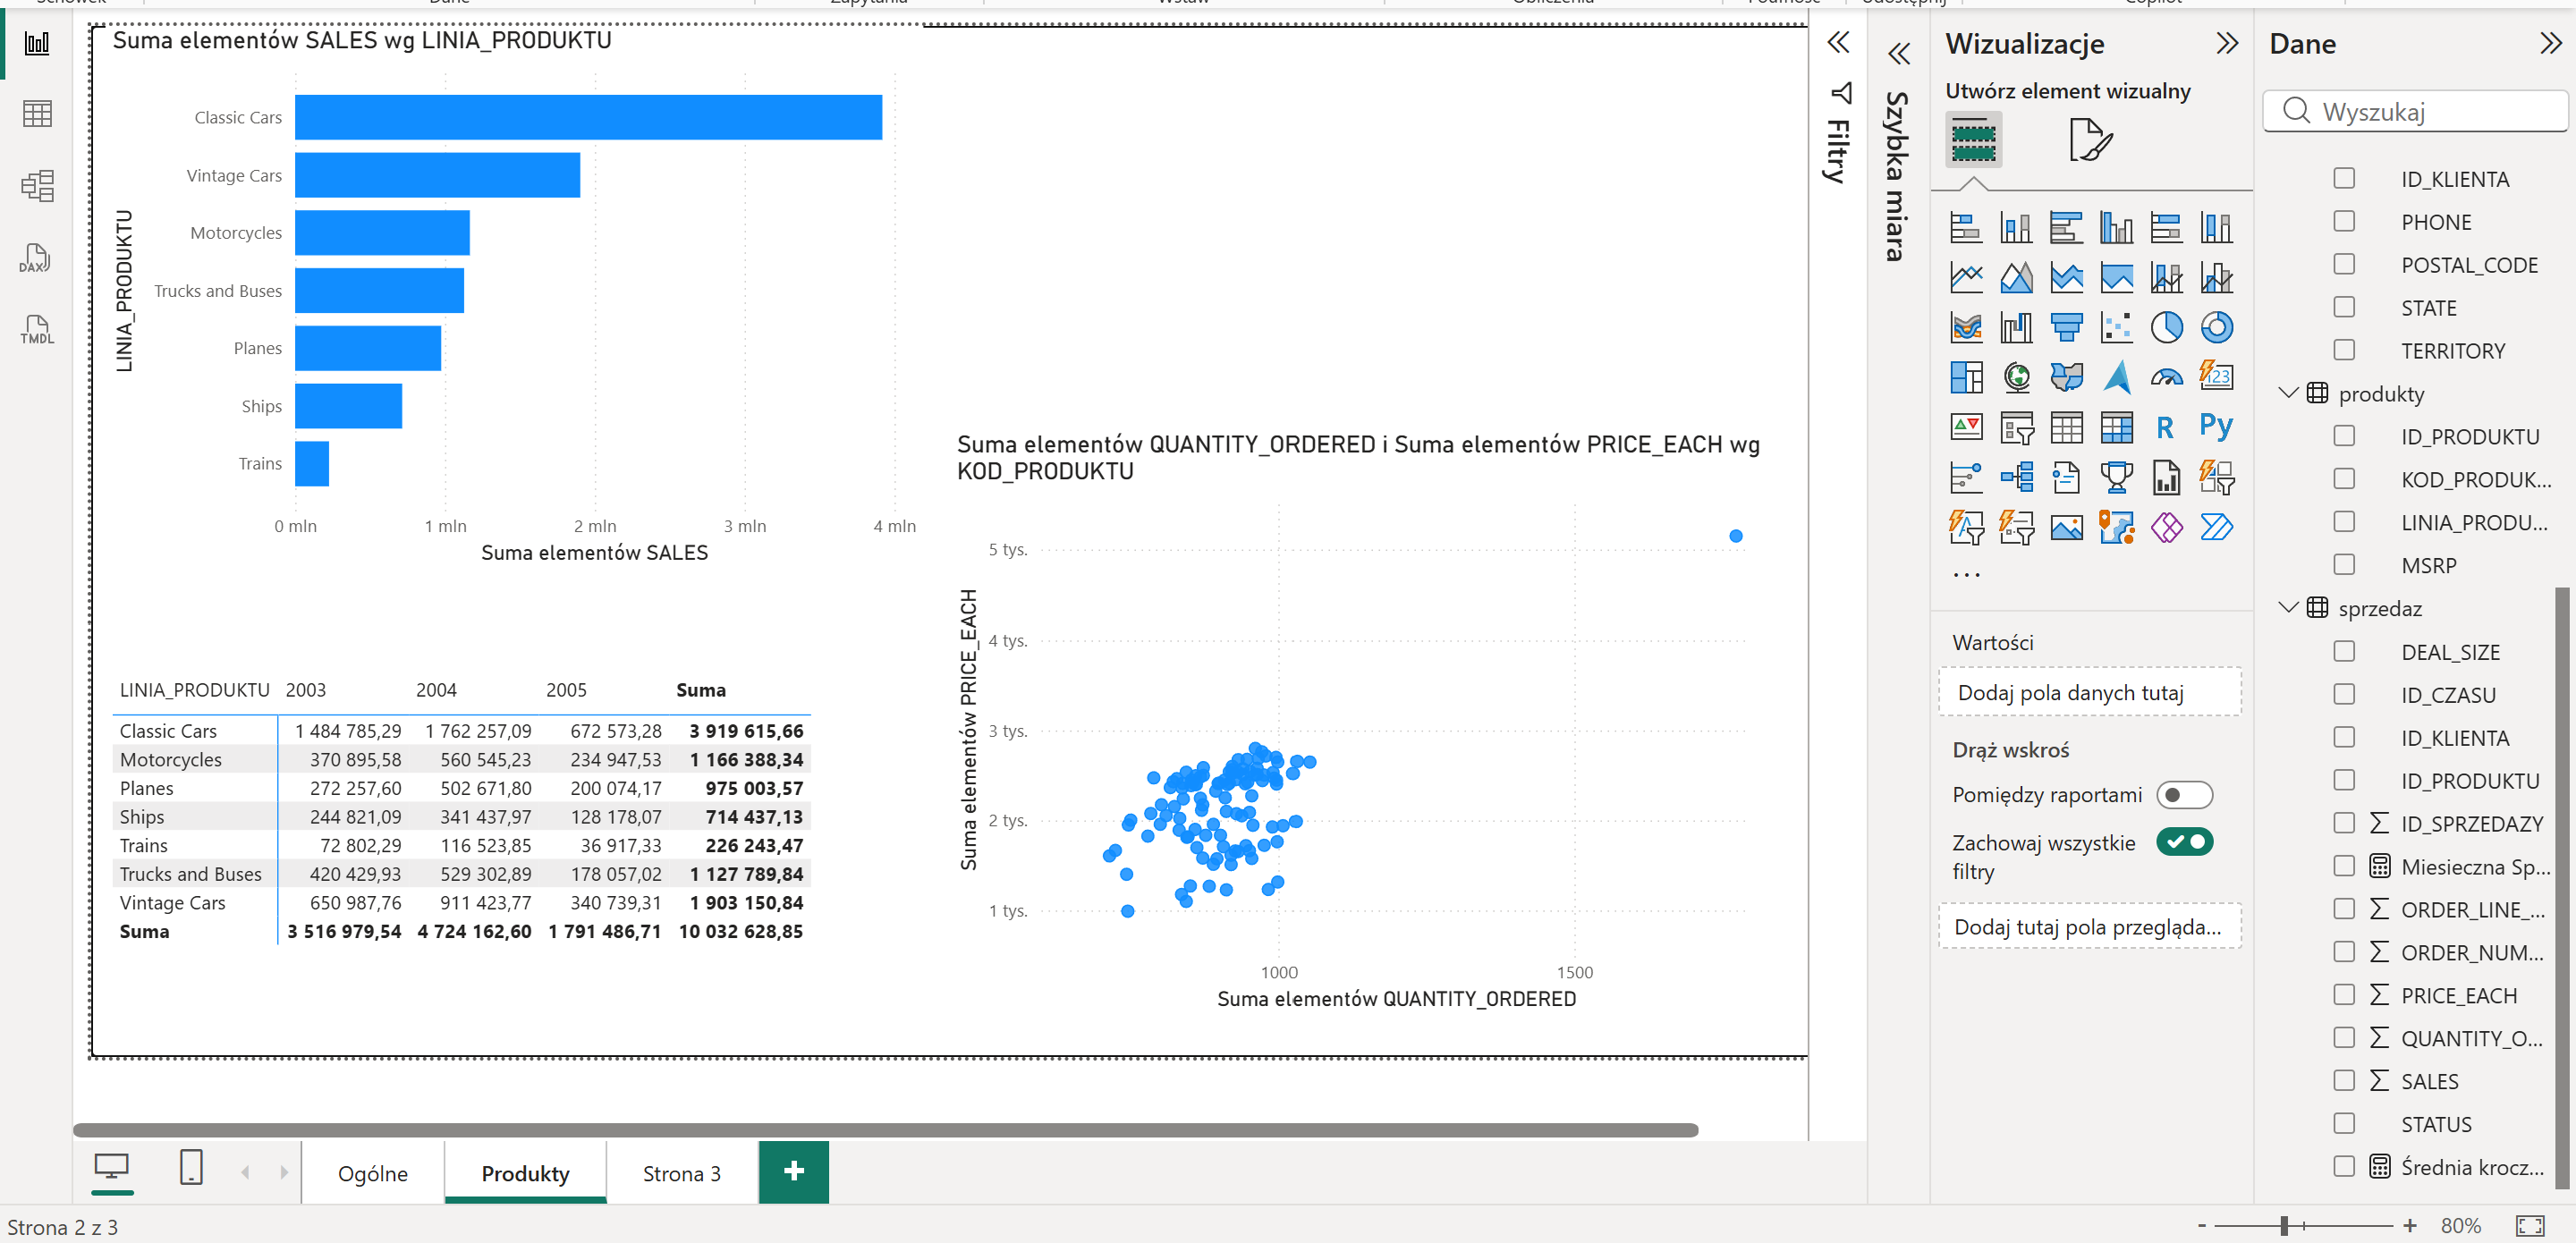

The page's visual inventory and layout, read from the dashboard file:
{"tool":"powerbi","page":{"name":"Produkty","canvas":[1280,720],"ordinal":1},"visuals":[{"type":"barChart","fields":{"Category":["produkty.LINIA_PRODUKTU"],"Y":["Sum(sprzedaz.SALES)"]},"box":[10,0,571.2,381.2],"z":0},{"type":"scatterChart","fields":{"X":["Sum(sprzedaz.QUANTITY_ORDERED)"],"Y":["Sum(sprzedaz.PRICE_EACH)"],"Category":["produkty.KOD_PRODUKTU"]},"box":[600,282.5,577.5,410],"z":1000},{"type":"pivotTable","fields":{"Rows":["produkty.LINIA_PRODUKTU"],"Columns":["czas.ROK"],"Values":["Sum(sprzedaz.SALES)"]},"box":[10,447.5,526.2,222.5],"z":1001}]}

Visuals, with their boxes on the page's 1280x720 design canvas (x1, y1, x2, y2). These are canvas units, not pixel positions in the 2576x1243 screenshot, which may show the page scaled, cropped or inside an application window:
barChart - produkty.LINIA_PRODUKTU x Sum(sprzedaz.SALES): [left=10, top=0, right=581, bottom=381]
scatterChart - Sum(sprzedaz.QUANTITY_ORDERED) x Sum(sprzedaz.PRICE_EACH): [left=600, top=282, right=1178, bottom=692]
pivotTable - produkty.LINIA_PRODUKTU x czas.ROK: [left=10, top=448, right=536, bottom=670]
